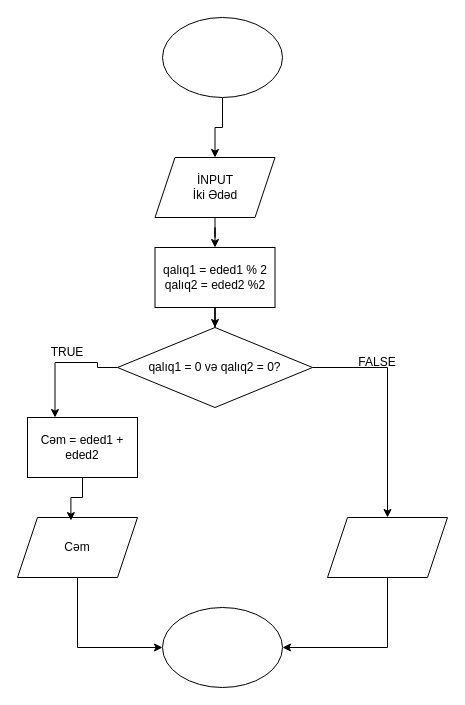
Some shapes in this 465 by 705 pixel diagram are drawn without their labels. The box of each missing label's shape, as (x1, y1, x2, y2) in pixels:
Daxil Olunan Ədədlər Cüt Olmalıdır!: (326, 516, 448, 578)
FINISH: (162, 606, 282, 688)
START: (162, 16, 282, 98)
